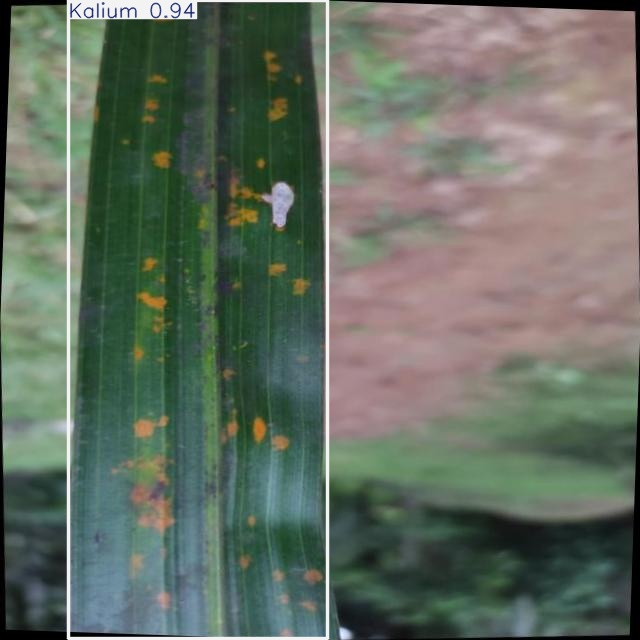Kalium: (68, 0, 327, 639)
